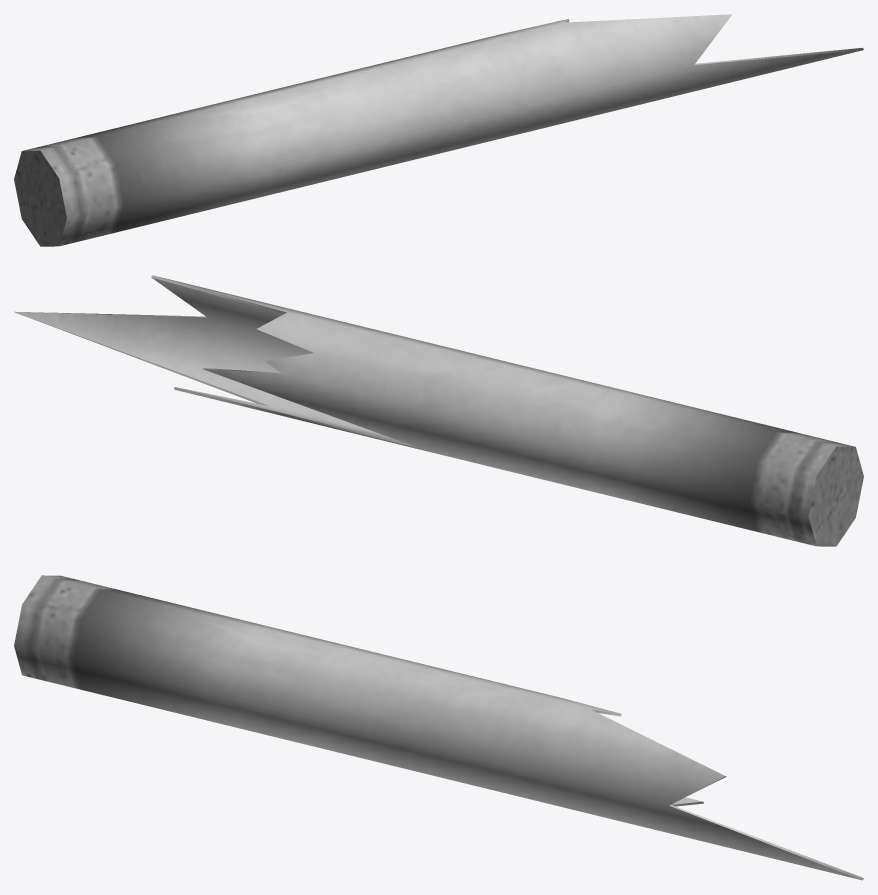
Rendered from LampFluoBulbBrokenA.fbx.
3 views of the same model, one above another, from view 1: azimuth 30°, elevation 25°; view 2: azimuth 150°, elevation 25°; view 3: azimuth 330°, elevation 25° (orthographic). The views are drawn at different scales.
Visible parts, largest first — view 1: LampFluoBulbBrokenA; view 2: LampFluoBulbBrokenA; view 3: LampFluoBulbBrokenA.
Boxes of the visible parts, x1,y1,x2,y2 form: LampFluoBulbBrokenA: [14, 14, 863, 246]; LampFluoBulbBrokenA: [14, 275, 863, 546]; LampFluoBulbBrokenA: [14, 575, 863, 880].
Bounding box in the file's own units: 35.09 × 4 × 4.
